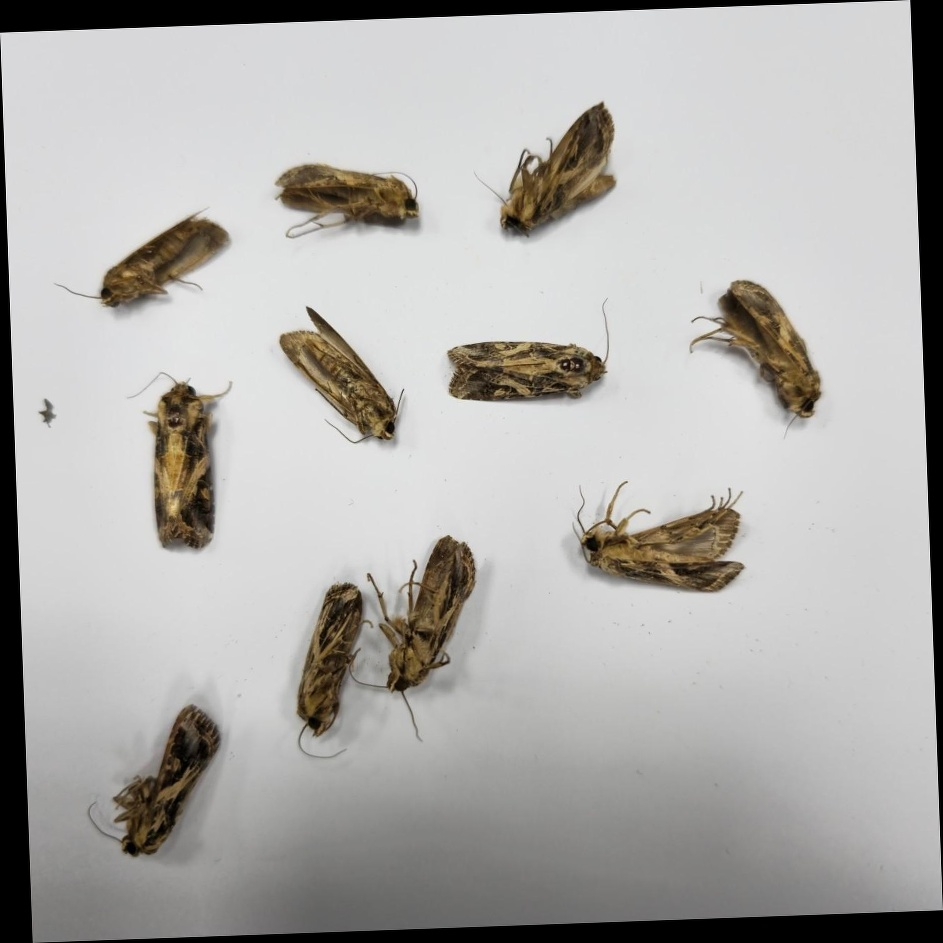Spodoptera litura: (347, 536, 479, 742), (689, 279, 823, 442), (85, 704, 223, 856), (573, 478, 746, 594), (474, 102, 617, 238), (130, 370, 236, 550), (51, 207, 232, 306), (280, 305, 404, 444), (445, 299, 611, 401), (294, 581, 375, 759), (274, 161, 420, 238)
